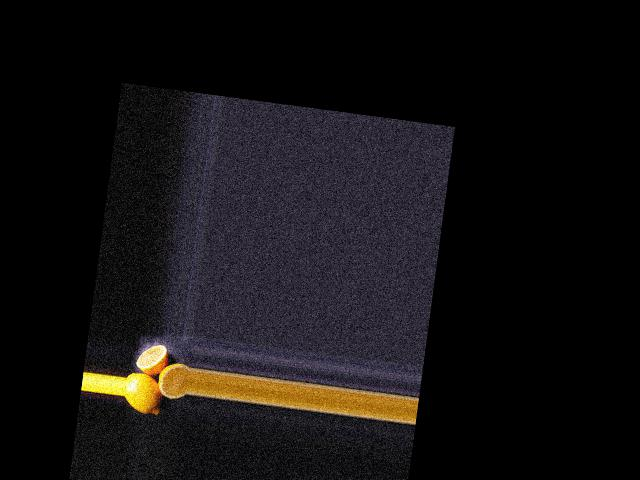lemon: (123, 369, 164, 418)
